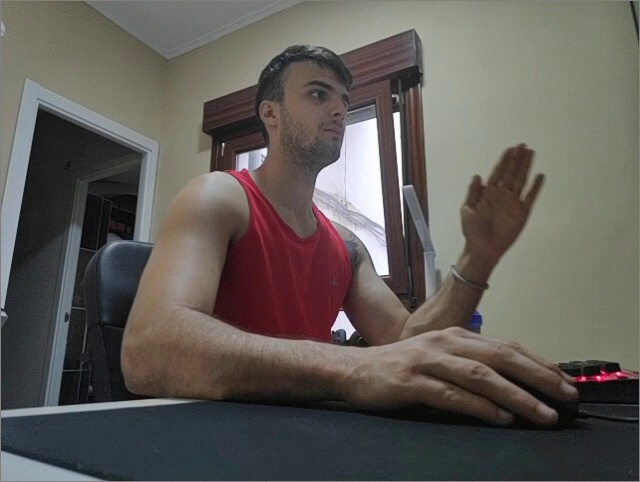Palm: (460, 142, 545, 245)
